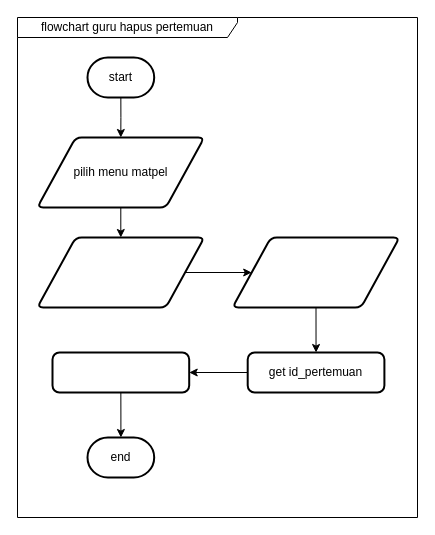
This 435x535 diagram has some shape labels left out. Here are the shapes that lost their labels. From the top down, the centre of each, then its label:
At pixel 120 272: "pilih pelajaran".
At pixel 315 272: "hapus pertemuan".
At pixel 120 372: "update data pelajaran".
